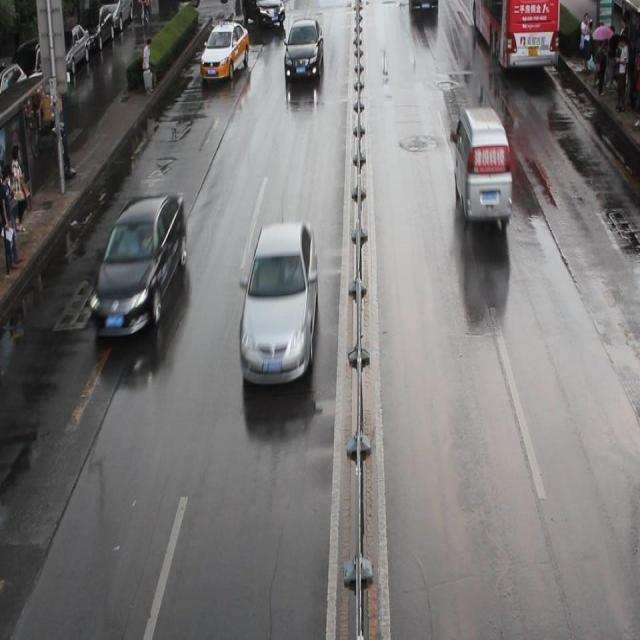car: (90, 190, 187, 340), (238, 219, 318, 385), (198, 18, 250, 82), (283, 19, 323, 84), (240, 1, 286, 32), (408, 1, 438, 18)
truck: (450, 106, 511, 222)
van: (461, 1, 558, 71)
